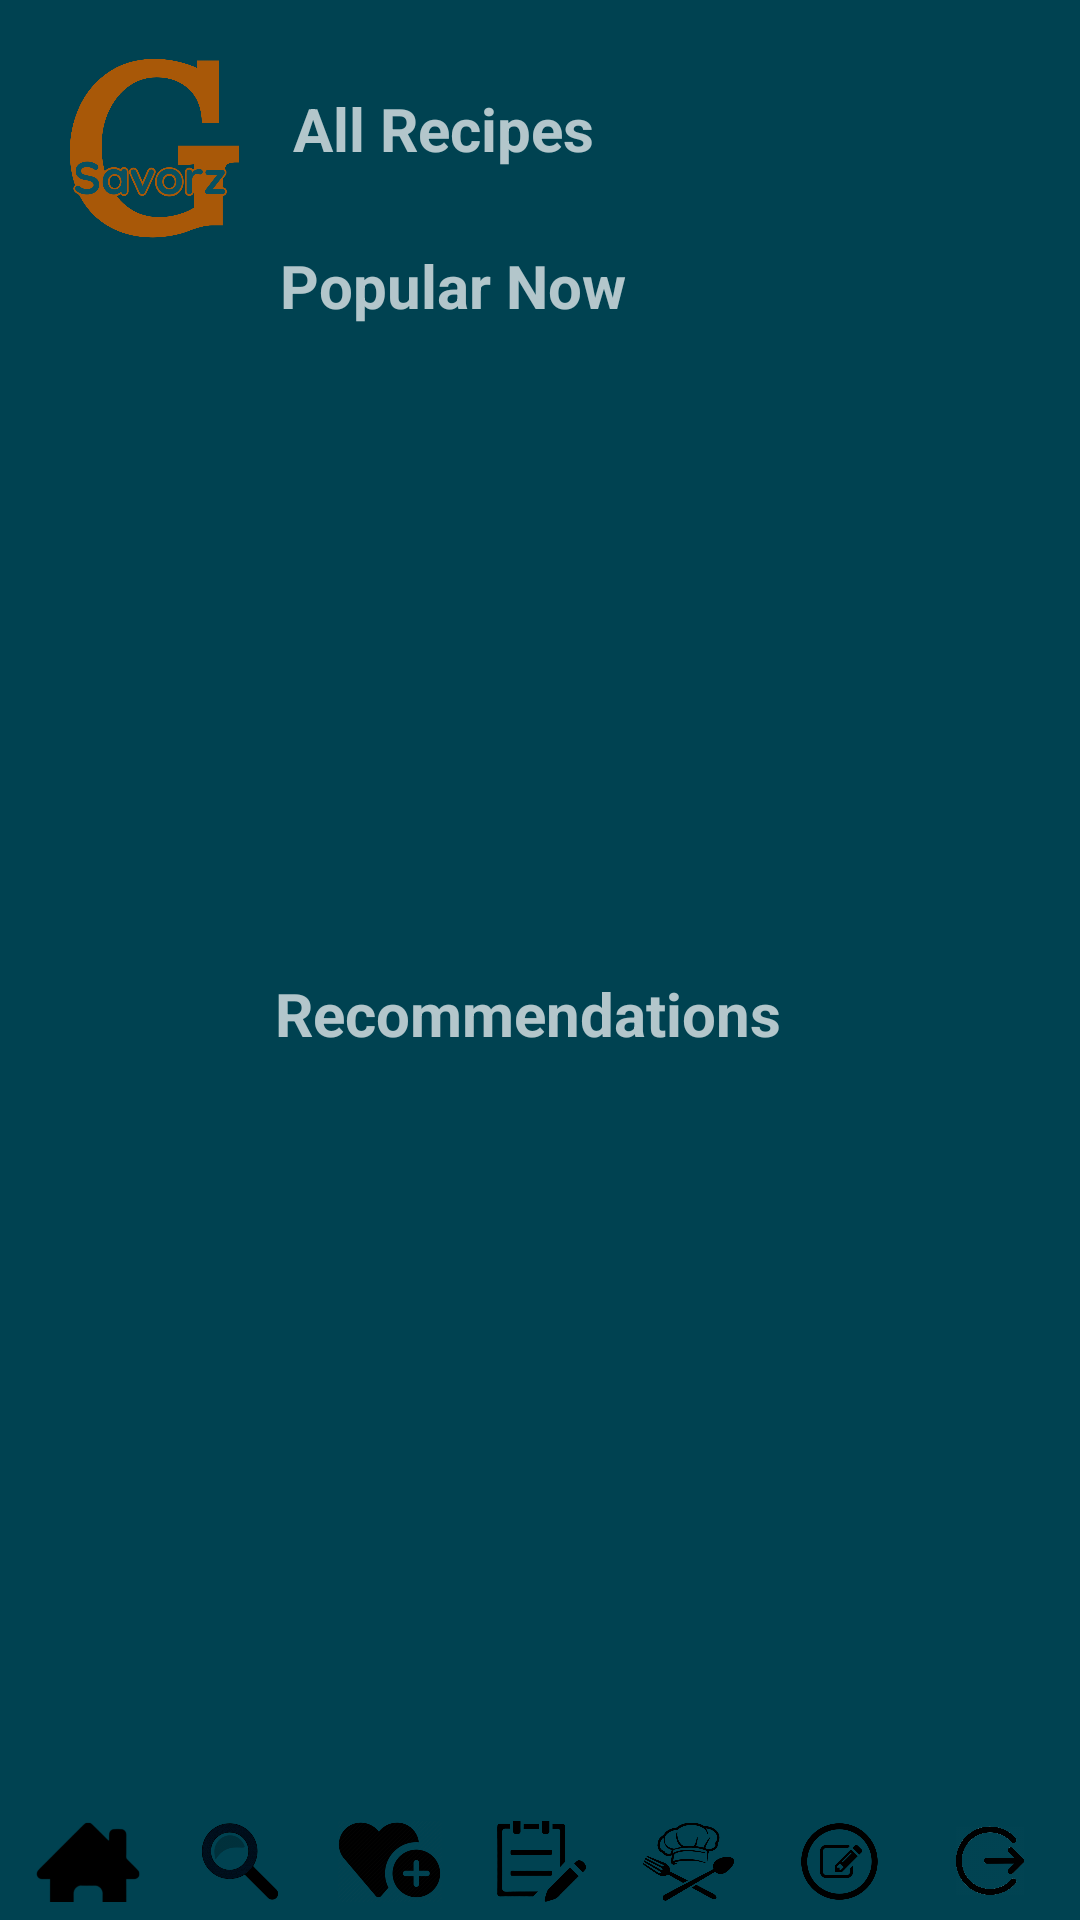

Screen size 1080 × 1920. Icon name, then its center in pixels as [x,y]:
chef: [688,1862]
home: [88,1862]
reviews: [839,1861]
saved: [389,1860]
sign out: [990,1860]
